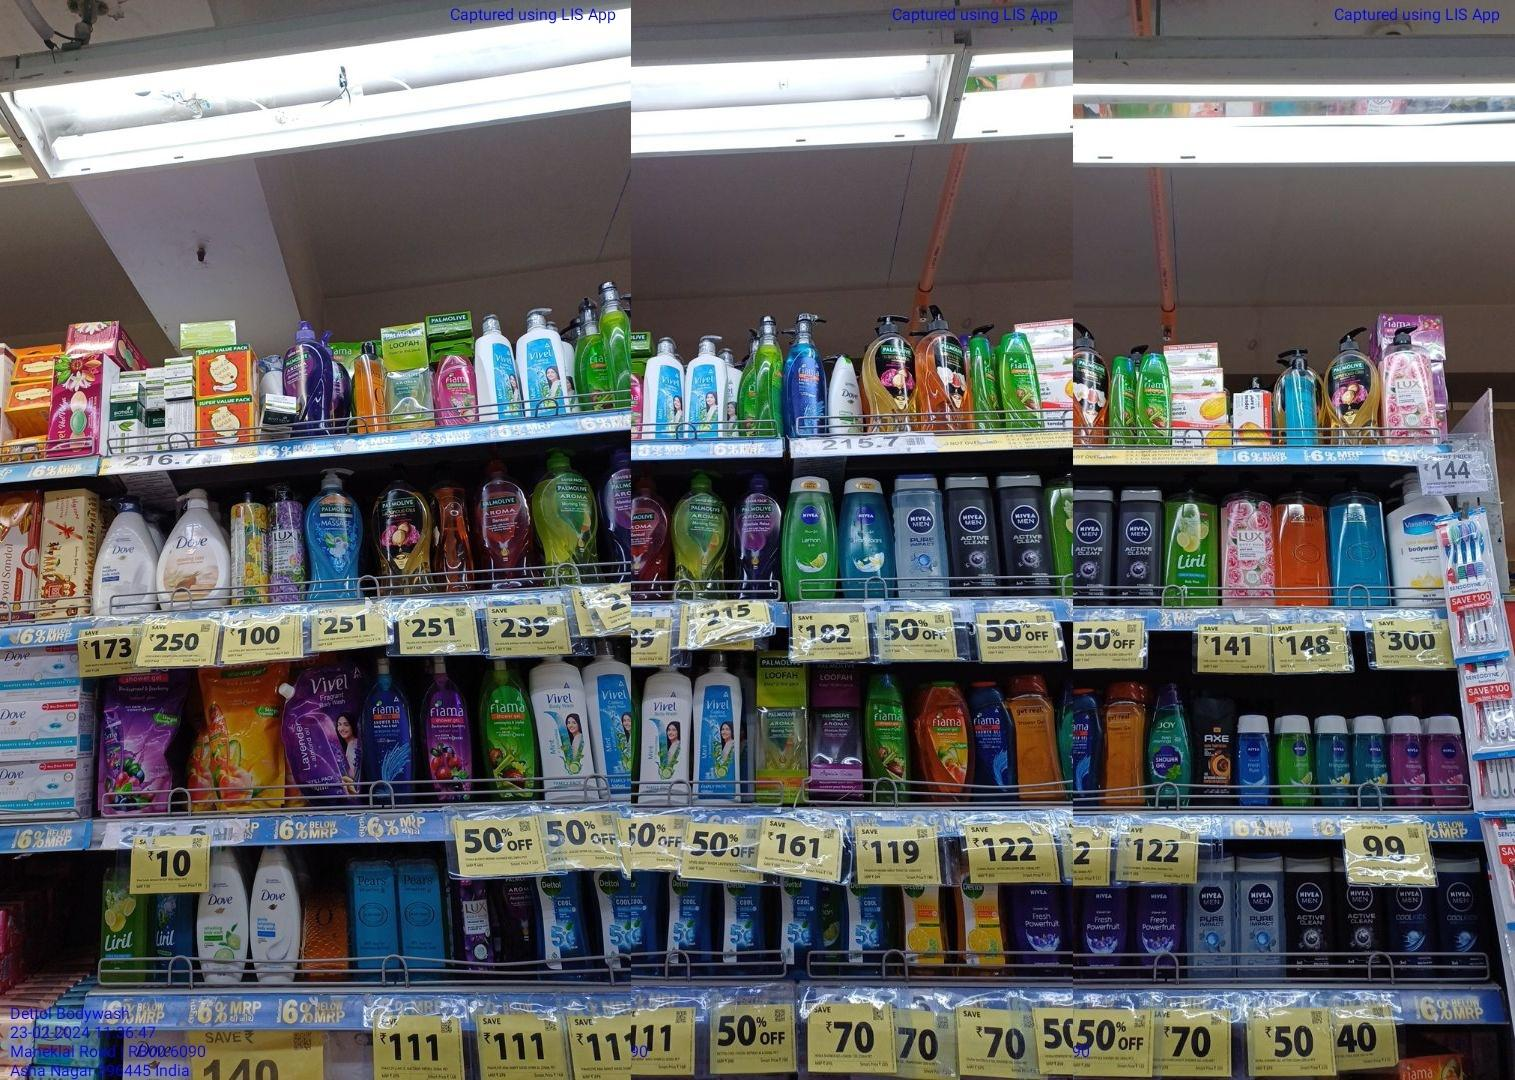Dettol_Bodywash_Cool: (533, 877, 594, 979), (666, 878, 714, 972), (844, 884, 888, 975), (777, 880, 822, 969), (721, 882, 765, 970)
Dettol_Bodywash_Refresh: (953, 875, 1009, 975), (898, 886, 949, 976)
Dove_Gentle_Exfoliating_Body_Wash_250ML: (249, 847, 300, 983)
Dove_Refreshing_Body_Wash_250ML: (828, 356, 862, 436)
Fiama_Shower_Gel_Lemongrass_and_Jojoba_250ML: (867, 674, 913, 803), (998, 333, 1045, 430), (1136, 354, 1175, 446)
Fiama_Shower_Gel_Patchouli_and_Macadamia_250ML: (434, 347, 477, 428)
Get_Real_Shower_Gel_Moisturising_Glycerin_300ML: (1008, 677, 1064, 803), (1100, 677, 1147, 808)
Joy_Shower_Gel_Mint_and_Eucalyptus_250ML: (1150, 684, 1192, 808)
Liril_Lime_and_Tea_Tree_Oil_Body_Wash_250ML: (99, 868, 146, 984)
Lux_Black_Orchid_Scent_and_Juniper_Oil_Body_Wash_245ML: (454, 880, 498, 978)
Nivea_Shower_Gel_Frangipani_and_Oil_250ML: (840, 477, 897, 598), (1350, 714, 1390, 806), (1315, 716, 1351, 808)
Nivea_Shower_Gel_Fresh_Powerfruit_250ML: (1011, 881, 1068, 975), (1075, 887, 1130, 977), (1133, 884, 1181, 975)
Nivea_Shower_Gel_Lemon_and_Oil_250ML: (780, 476, 836, 600), (1278, 714, 1315, 808)
Nivea_Shower_Gel_Waterlily_and_Oil_250ML: (1430, 716, 1472, 806), (1390, 716, 1430, 804)
Pears_Pure_Glycerin_and_Mint_Extracts_Body_Wash_250ML: (346, 849, 399, 968), (400, 846, 445, 970)
